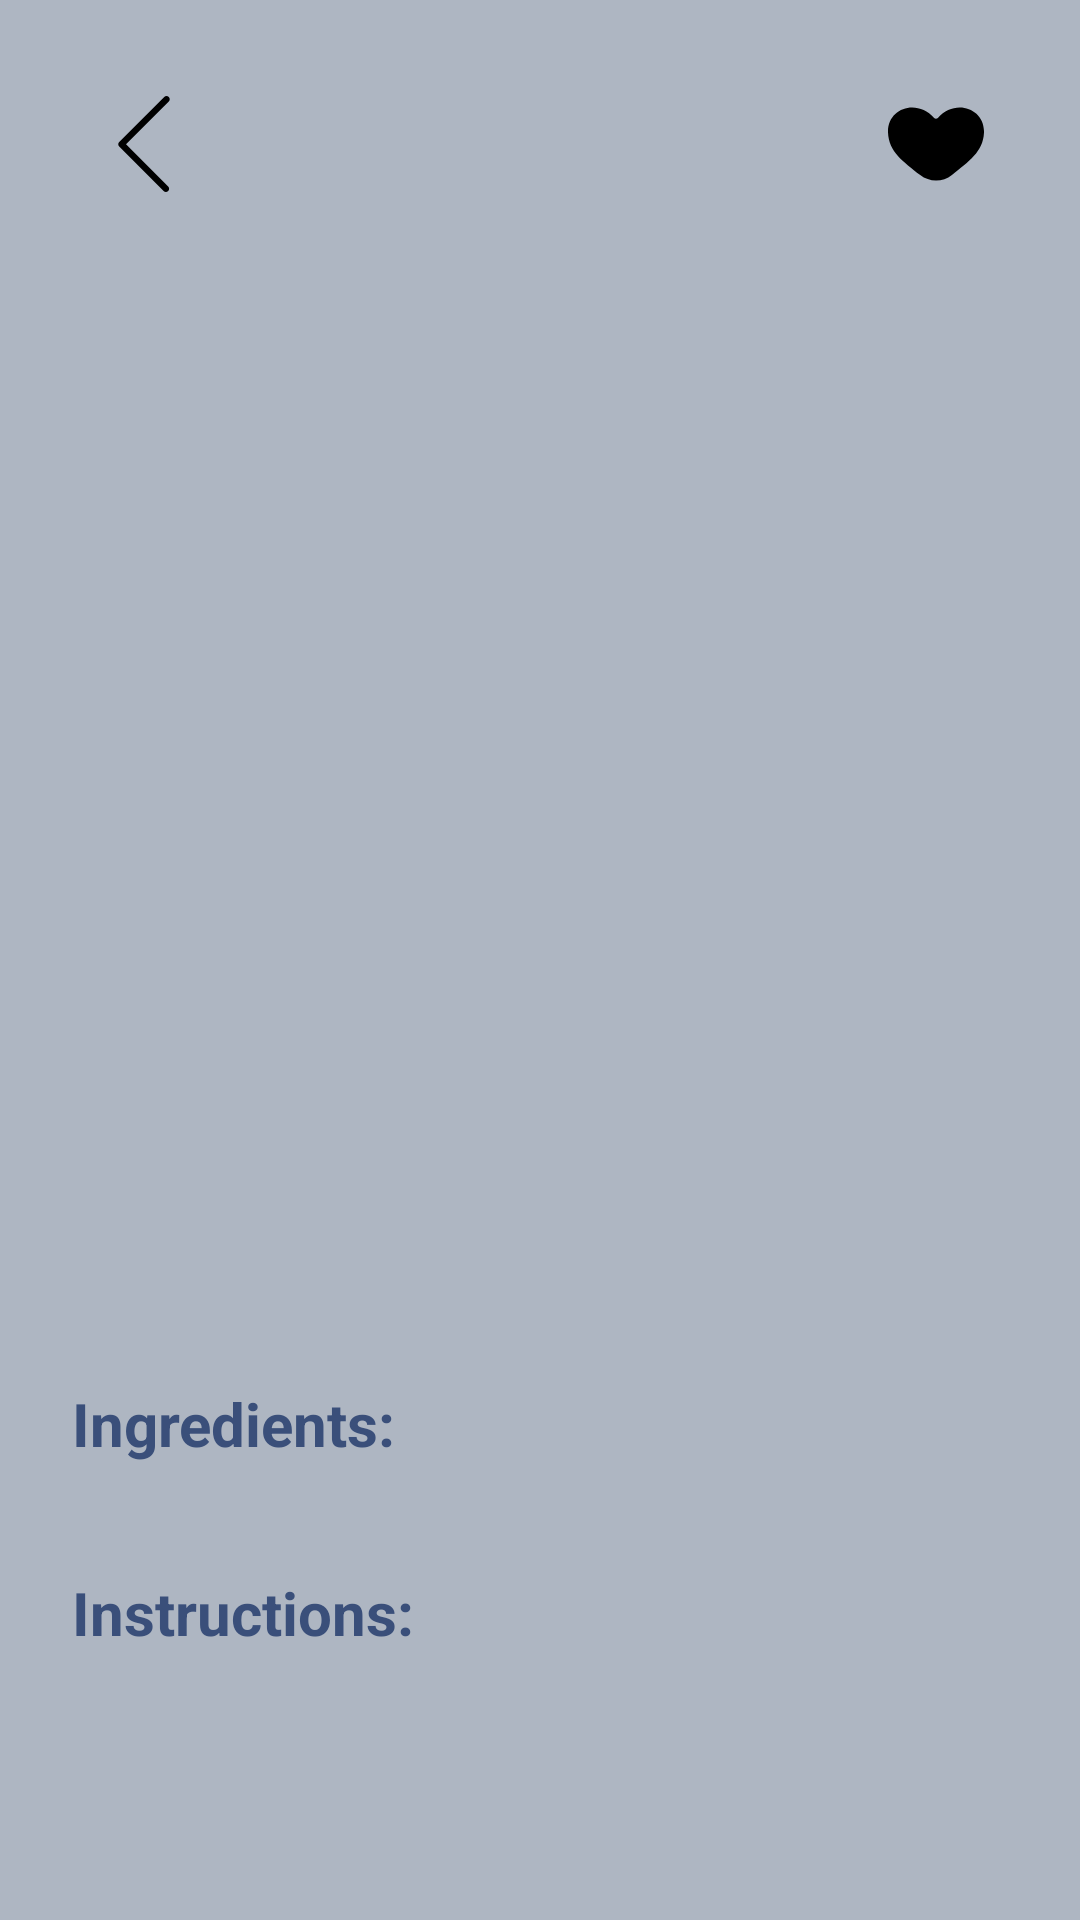

Named icons in this screenshot (1080×1920) and their centers, (x,y):
Ulubione: (936,144)
Wróć: (144,144)
